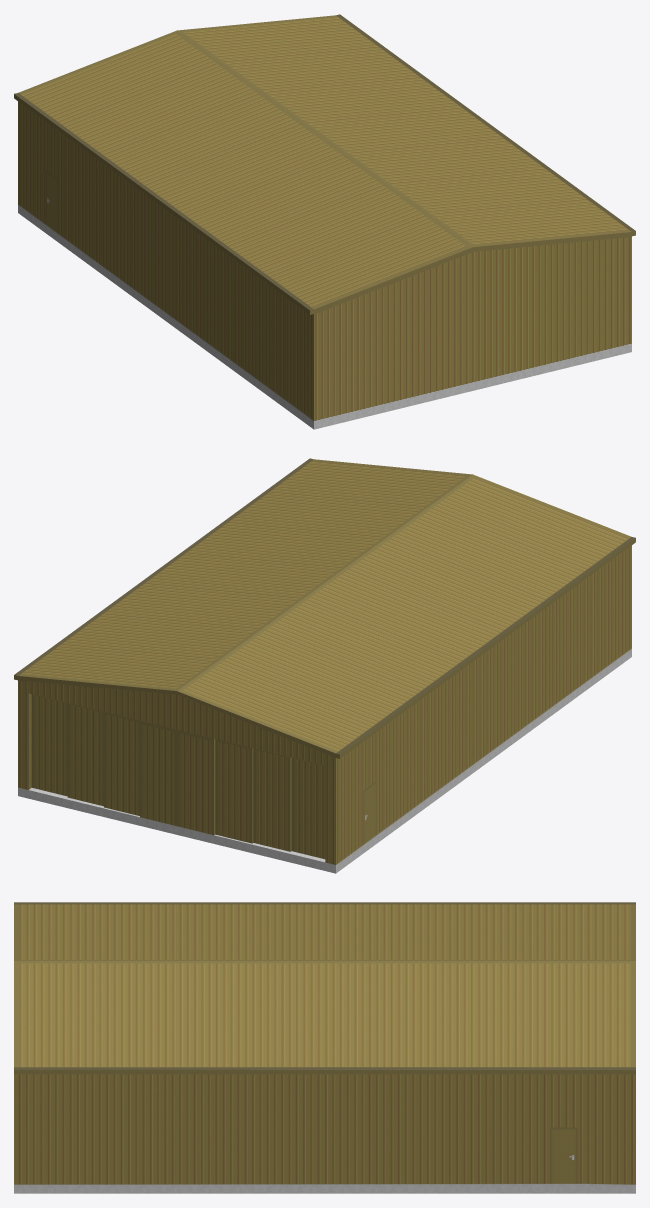
The model's file is hangar-16x25x5mustard-cbj_LOD00.gltf.
3 renders of one model, top to bottom at view 1: azimuth 30°, elevation 25°; view 2: azimuth 150°, elevation 25°; view 3: azimuth 270°, elevation 25°, orthographic. The views are drawn at different scales.
Visible parts, largest first — view 1: hangar; view 2: hangar; view 3: hangar.
Part boxes in pixels (bbox=[...]): hangar: bbox=[14, 14, 635, 429]; hangar: bbox=[14, 458, 635, 873]; hangar: bbox=[14, 902, 635, 1193].
Bounding box in the file's own units: 15.9 × 6.7 × 25.
